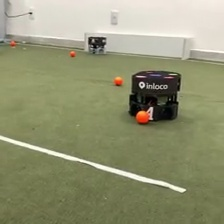ball: (134, 108, 151, 126), (113, 74, 124, 85), (69, 49, 77, 57), (9, 38, 17, 46)
goal: (82, 30, 193, 62)
robot: (127, 68, 184, 124), (86, 34, 107, 55)
